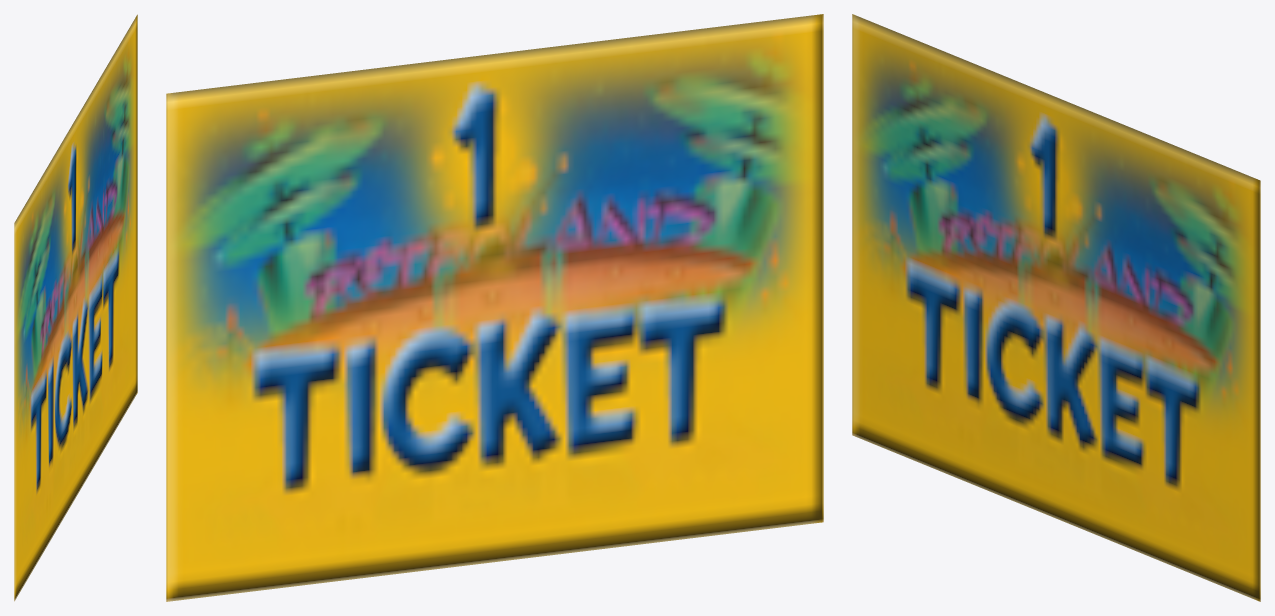
3 renders of one model, left to right at view 1: azimuth 30°, elevation 25°; view 2: azimuth 150°, elevation 25°; view 3: azimuth 270°, elevation 25°, orthographic. The views are drawn at different scales.
Parts seen in each view (by area): view 1: Box30; view 2: Box30; view 3: Box30.
Part boxes in pixels (box(x1,y1,x2,y2)): Box30: box(14, 14, 137, 601); Box30: box(166, 14, 823, 601); Box30: box(852, 14, 1260, 601).
Size of the model in its own units: 43.26 by 51.05 by 44.8.
Materials: 1 (1 with a texture image).
